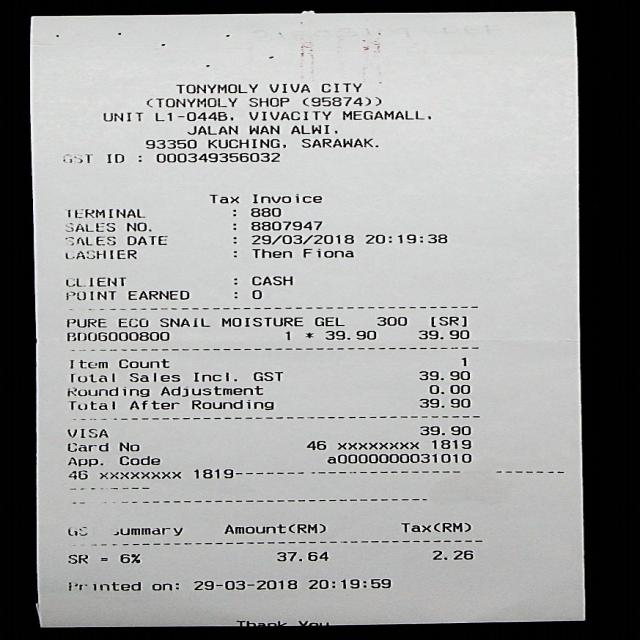text: (326, 453, 470, 464), (154, 152, 278, 162), (160, 384, 262, 396), (66, 331, 168, 341), (194, 580, 296, 590), (250, 235, 352, 244), (306, 578, 389, 589), (146, 97, 236, 107), (342, 110, 429, 120), (66, 387, 148, 397), (190, 400, 272, 410), (302, 96, 380, 106), (66, 208, 144, 218), (364, 234, 446, 243), (220, 318, 302, 327), (175, 84, 256, 93), (300, 138, 372, 148), (64, 249, 135, 259), (250, 220, 320, 230), (207, 139, 284, 148), (400, 522, 469, 532), (248, 112, 330, 120), (154, 112, 232, 120), (251, 194, 320, 203), (223, 524, 284, 534), (416, 370, 471, 381), (68, 582, 140, 590), (112, 528, 181, 536), (127, 290, 188, 299), (65, 277, 125, 286), (426, 383, 471, 395), (418, 398, 472, 408), (274, 551, 327, 561), (301, 248, 353, 258), (323, 330, 375, 340), (116, 358, 168, 368), (128, 372, 179, 382), (64, 222, 114, 232), (128, 400, 178, 410), (419, 426, 469, 436), (431, 549, 471, 561), (68, 400, 114, 410), (144, 139, 195, 148), (158, 318, 209, 327), (64, 237, 114, 246), (64, 291, 114, 300), (418, 330, 468, 339), (66, 442, 110, 452), (192, 372, 235, 382), (65, 428, 108, 438), (116, 455, 158, 465), (125, 235, 166, 245), (186, 126, 236, 134), (430, 438, 470, 448), (69, 373, 113, 382), (290, 124, 328, 134), (64, 318, 106, 327), (430, 316, 464, 327), (235, 619, 287, 626), (320, 83, 360, 92), (248, 97, 288, 106), (250, 249, 290, 258), (251, 276, 291, 285), (192, 469, 232, 478), (102, 112, 141, 121), (268, 84, 309, 92), (66, 457, 98, 467), (291, 524, 324, 533), (69, 360, 106, 368), (376, 316, 405, 326), (247, 125, 278, 134), (66, 553, 87, 566), (208, 194, 238, 203), (313, 317, 343, 326), (116, 318, 146, 327), (252, 372, 282, 381), (250, 208, 280, 216), (124, 222, 150, 231), (62, 154, 91, 162), (296, 619, 329, 626), (117, 442, 140, 452), (117, 553, 140, 563), (304, 440, 325, 450), (151, 582, 177, 590), (66, 470, 86, 479), (66, 526, 85, 535), (106, 154, 122, 162), (251, 290, 260, 299), (460, 356, 468, 366), (284, 330, 289, 340), (304, 332, 312, 338)
